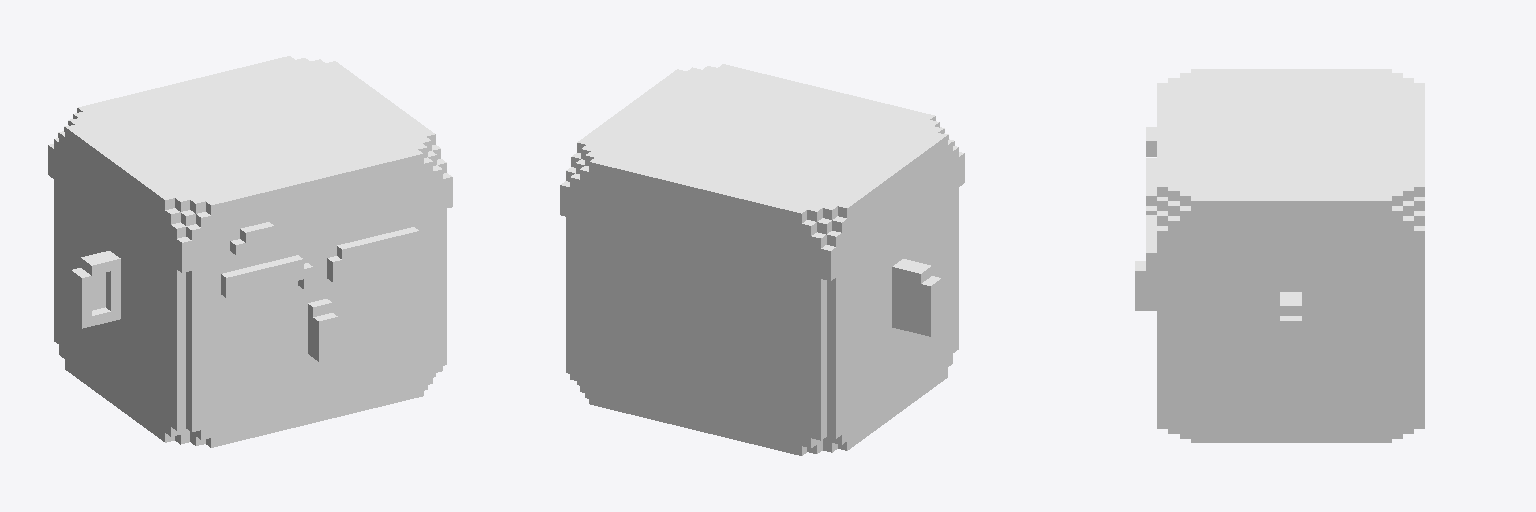
Rendered from Guard1_HEAD.obj.
3 renders of one model, left to right at view 1: azimuth 30°, elevation 25°; view 2: azimuth 150°, elevation 25°; view 3: azimuth 270°, elevation 25°, orthographic.
Bounding box in the file's own units: 36 × 24 × 26.